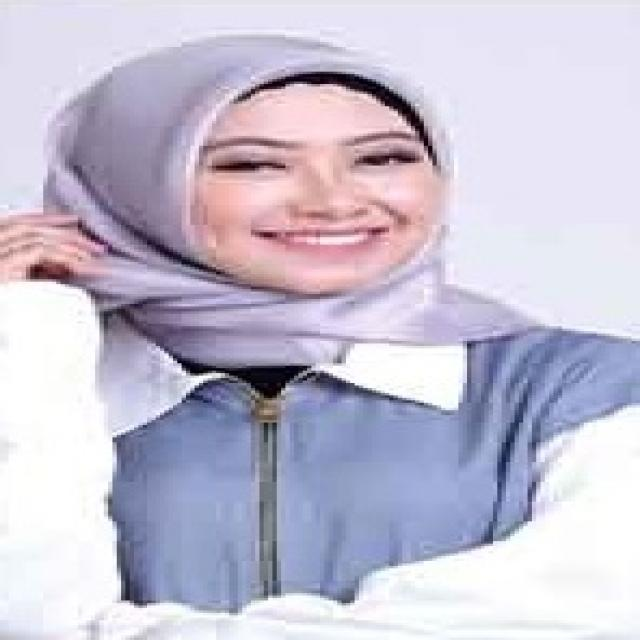head: (71, 39, 455, 299)
